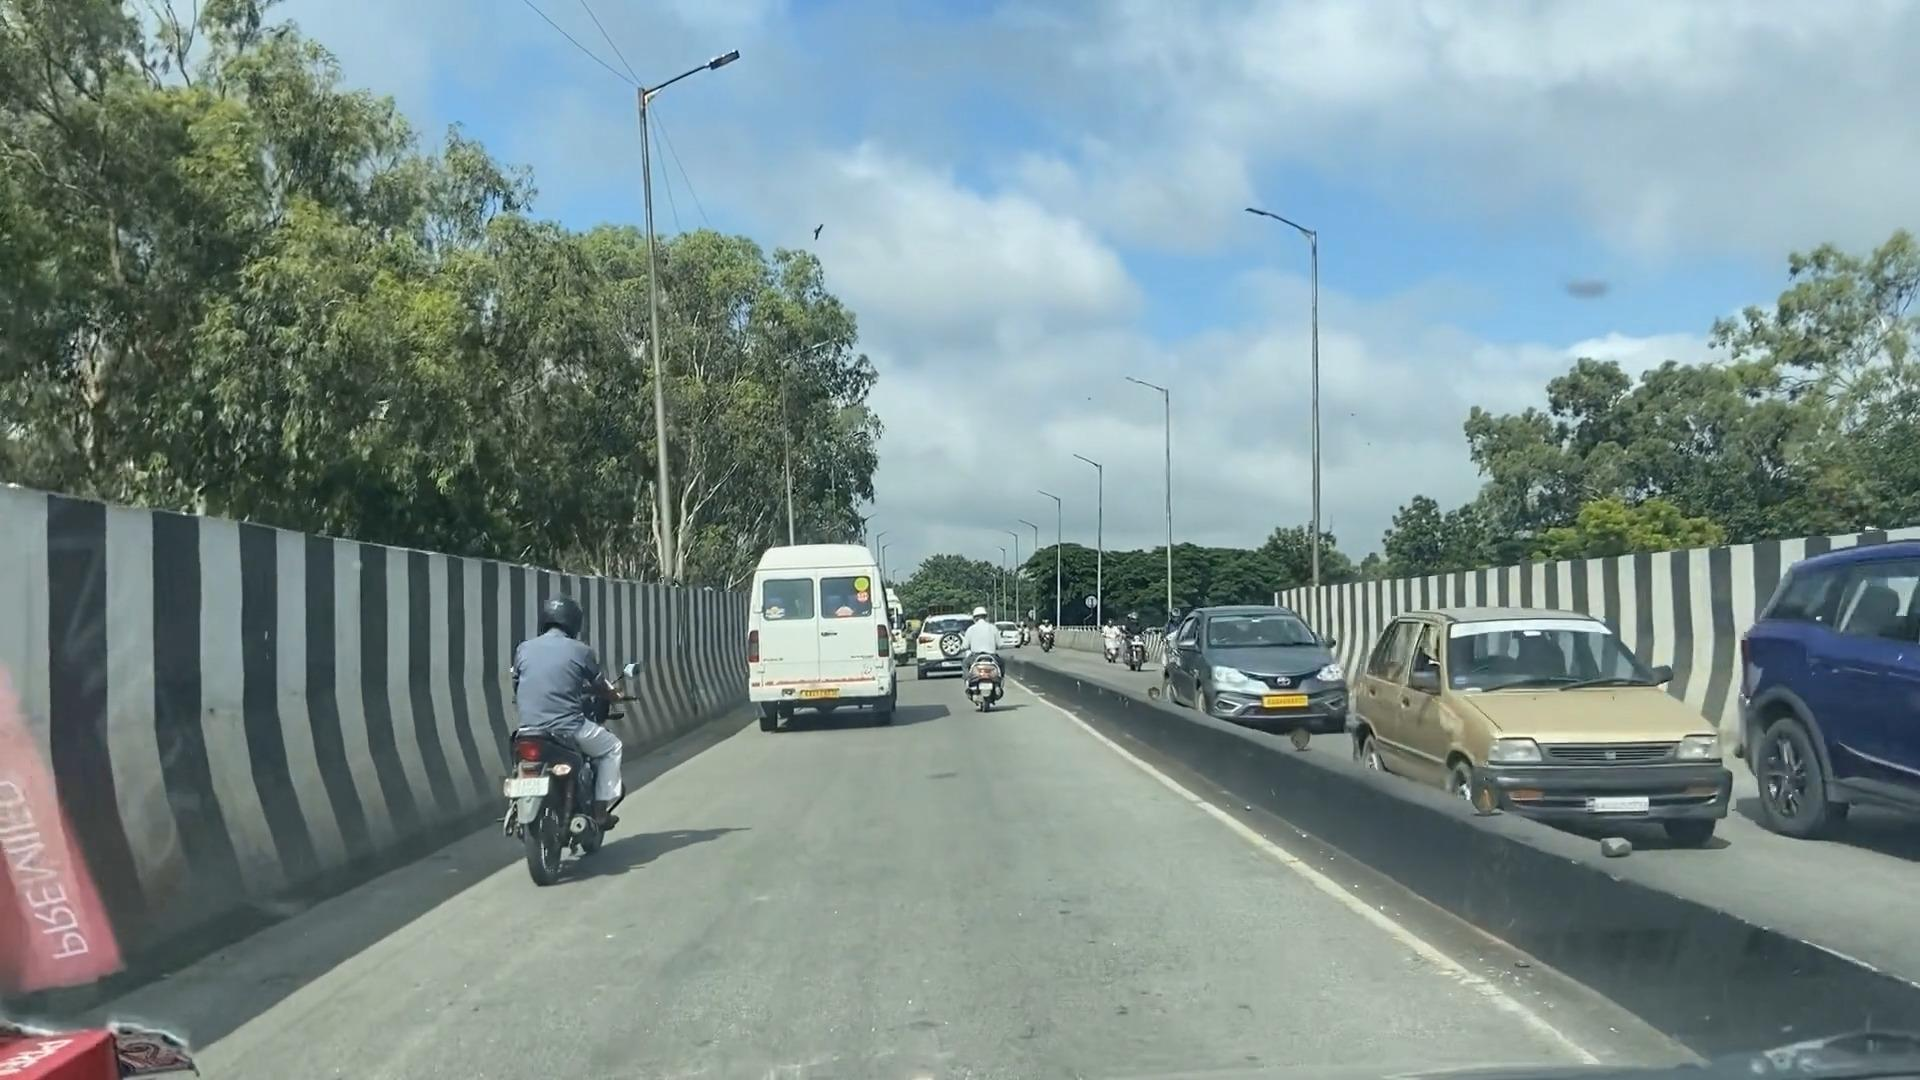HMV: (742, 541, 893, 731)
LMV: (485, 604, 613, 909), (968, 597, 1014, 725)
